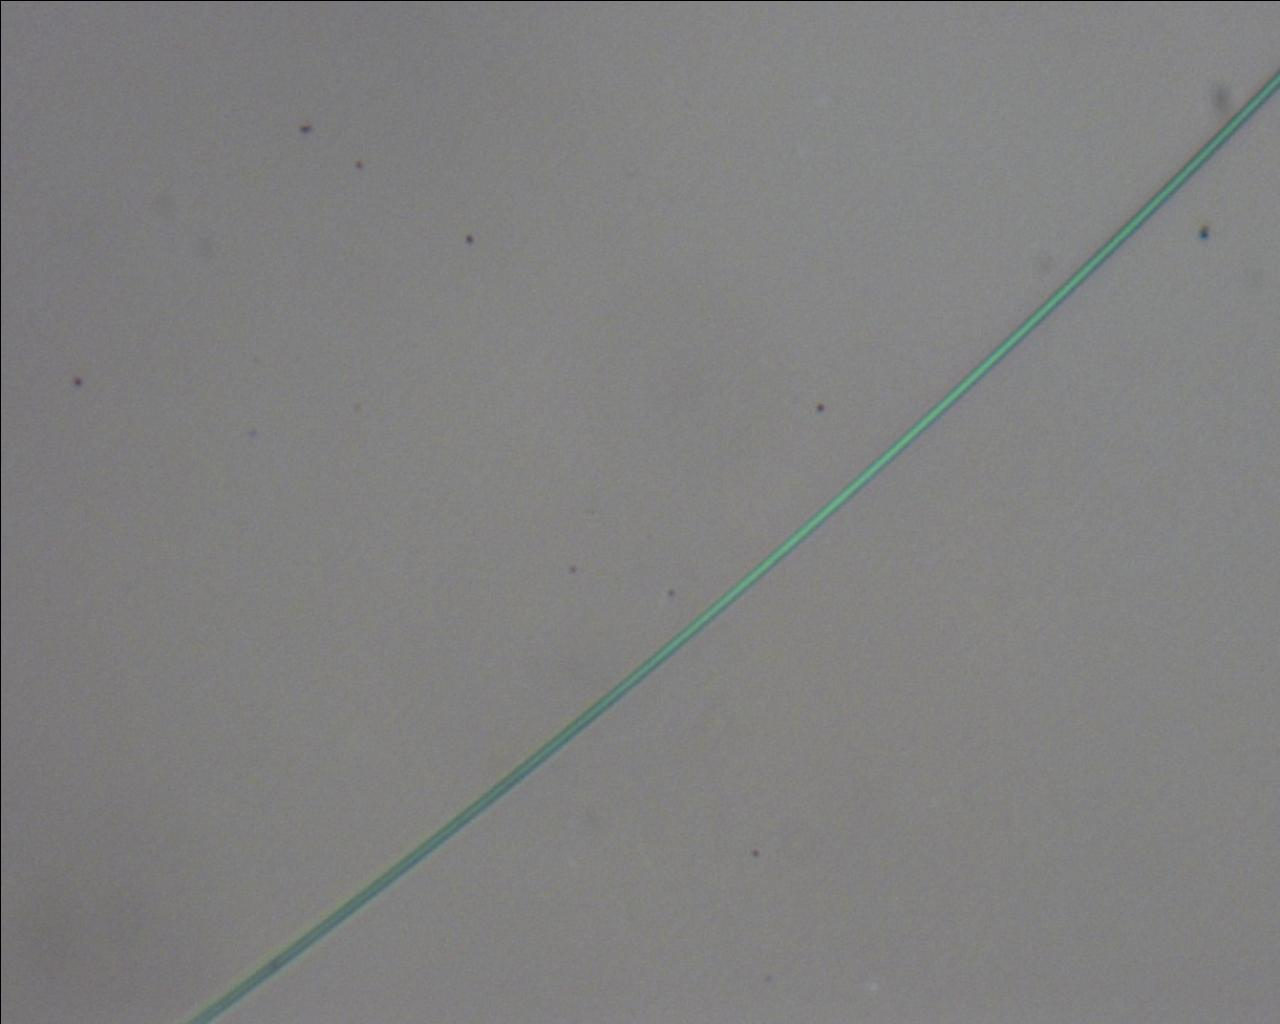fiber: (0, 78, 1280, 719)
